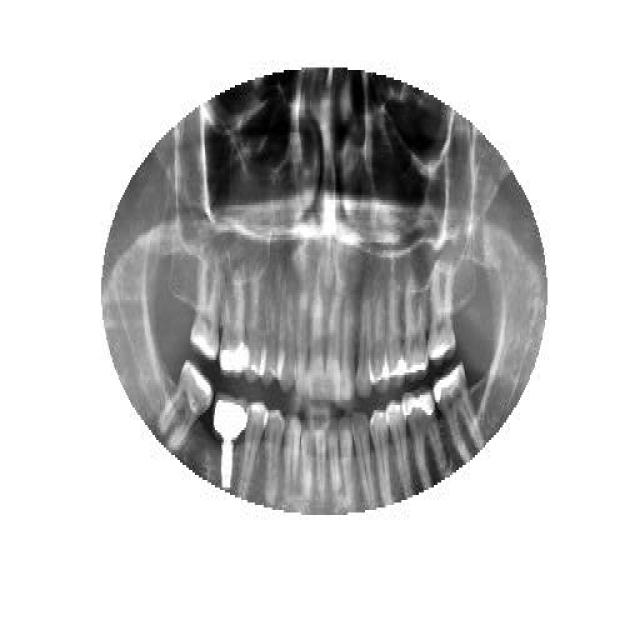Fillings: (432, 362, 483, 462), (402, 388, 450, 490), (219, 275, 249, 375)
Impacted Tooth: (156, 360, 212, 452)
Implant: (212, 395, 246, 490)
